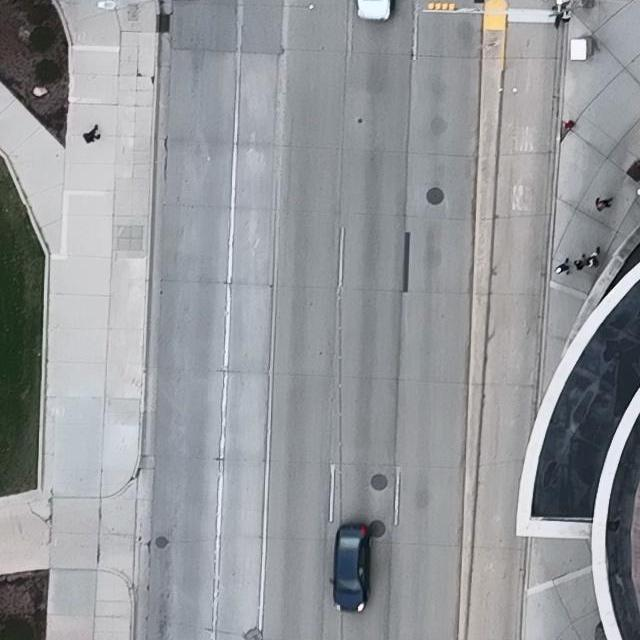car: (328, 523, 371, 611), (354, 0, 393, 22)
